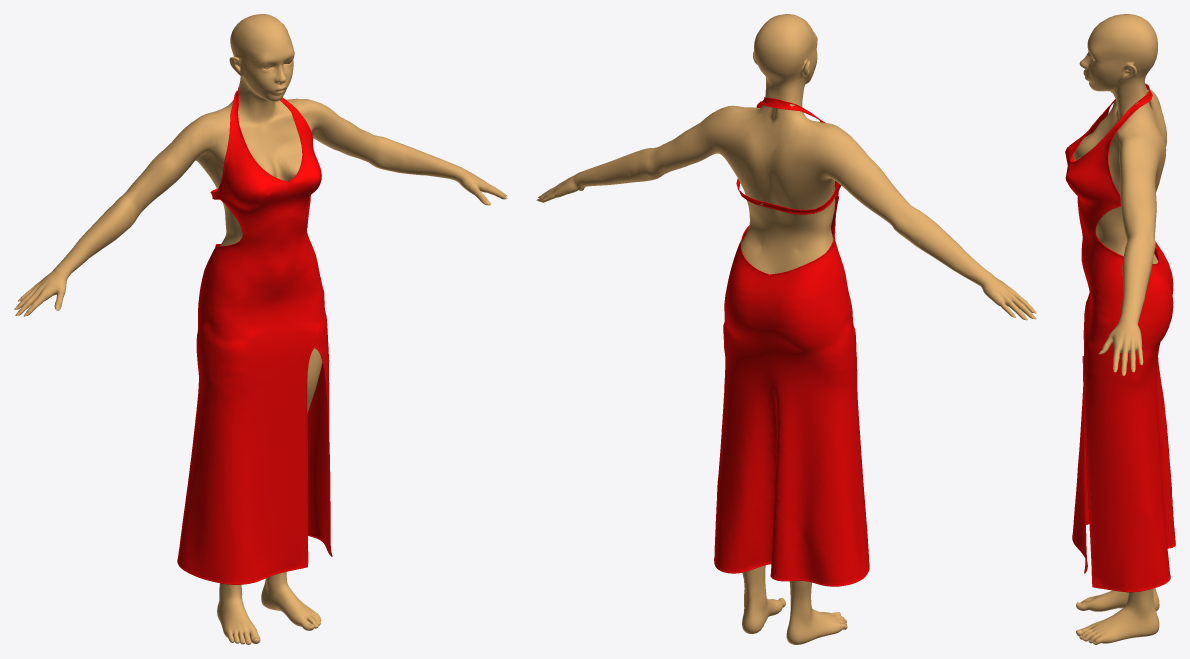
Rendered from dress3.glb.
3 renders of one model, left to right at view 1: azimuth 30°, elevation 25°; view 2: azimuth 150°, elevation 25°; view 3: azimuth 270°, elevation 25°, orthographic.
Visible parts, largest first — view 1: EveningDress, Body; view 2: EveningDress, Body; view 3: EveningDress, Body.
Part boxes in pixels (<box>): EveningDress: <box>177,87,332,584</box>; Body: <box>16,14,506,644</box>; EveningDress: <box>714,97,869,586</box>; Body: <box>538,14,1033,644</box>; EveningDress: <box>1065,83,1175,592</box>; Body: <box>1073,14,1166,644</box>.
Size of the model in its own units: 1.58 by 1.85 by 0.306.
